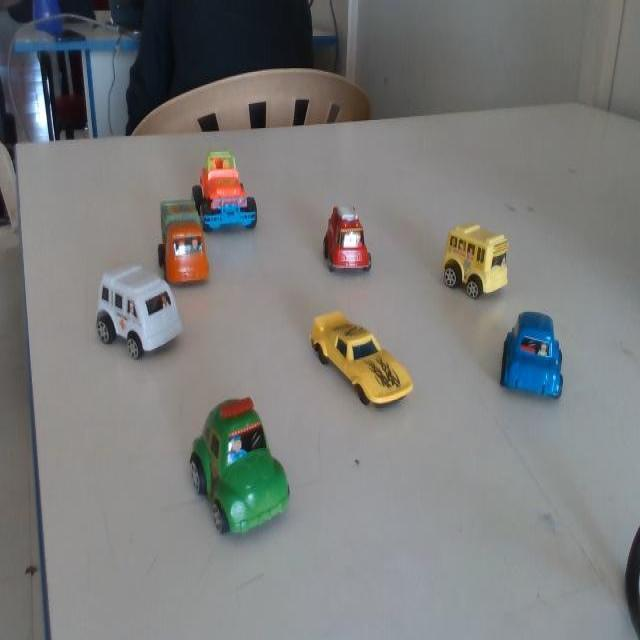car: (182, 400, 293, 532), (93, 256, 183, 368), (308, 312, 411, 407), (196, 144, 268, 235), (500, 312, 568, 400), (154, 192, 211, 292), (435, 224, 505, 304), (313, 200, 373, 286)
